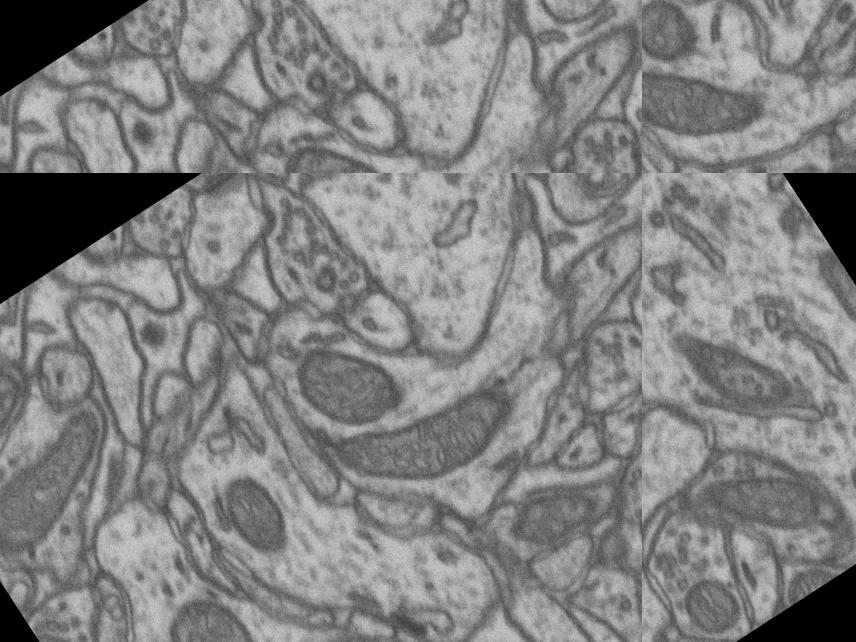mitochondria: (322, 348, 534, 531), (688, 420, 846, 580), (660, 288, 812, 450), (0, 395, 141, 567), (642, 21, 775, 173), (288, 318, 422, 450), (501, 464, 614, 568), (200, 458, 296, 561), (264, 111, 404, 173), (661, 558, 763, 642), (146, 578, 279, 642), (0, 327, 51, 478), (801, 244, 856, 364), (642, 0, 717, 86), (764, 544, 848, 612), (799, 135, 856, 173), (31, 612, 98, 642)
